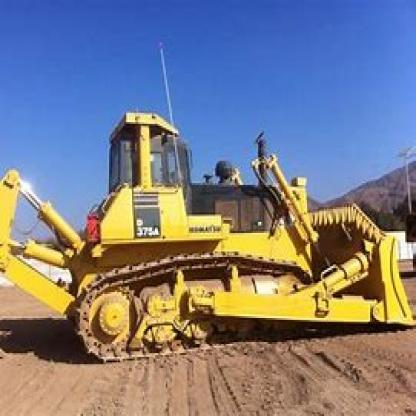bull_dozer/loader/grader: (1, 109, 414, 368)
